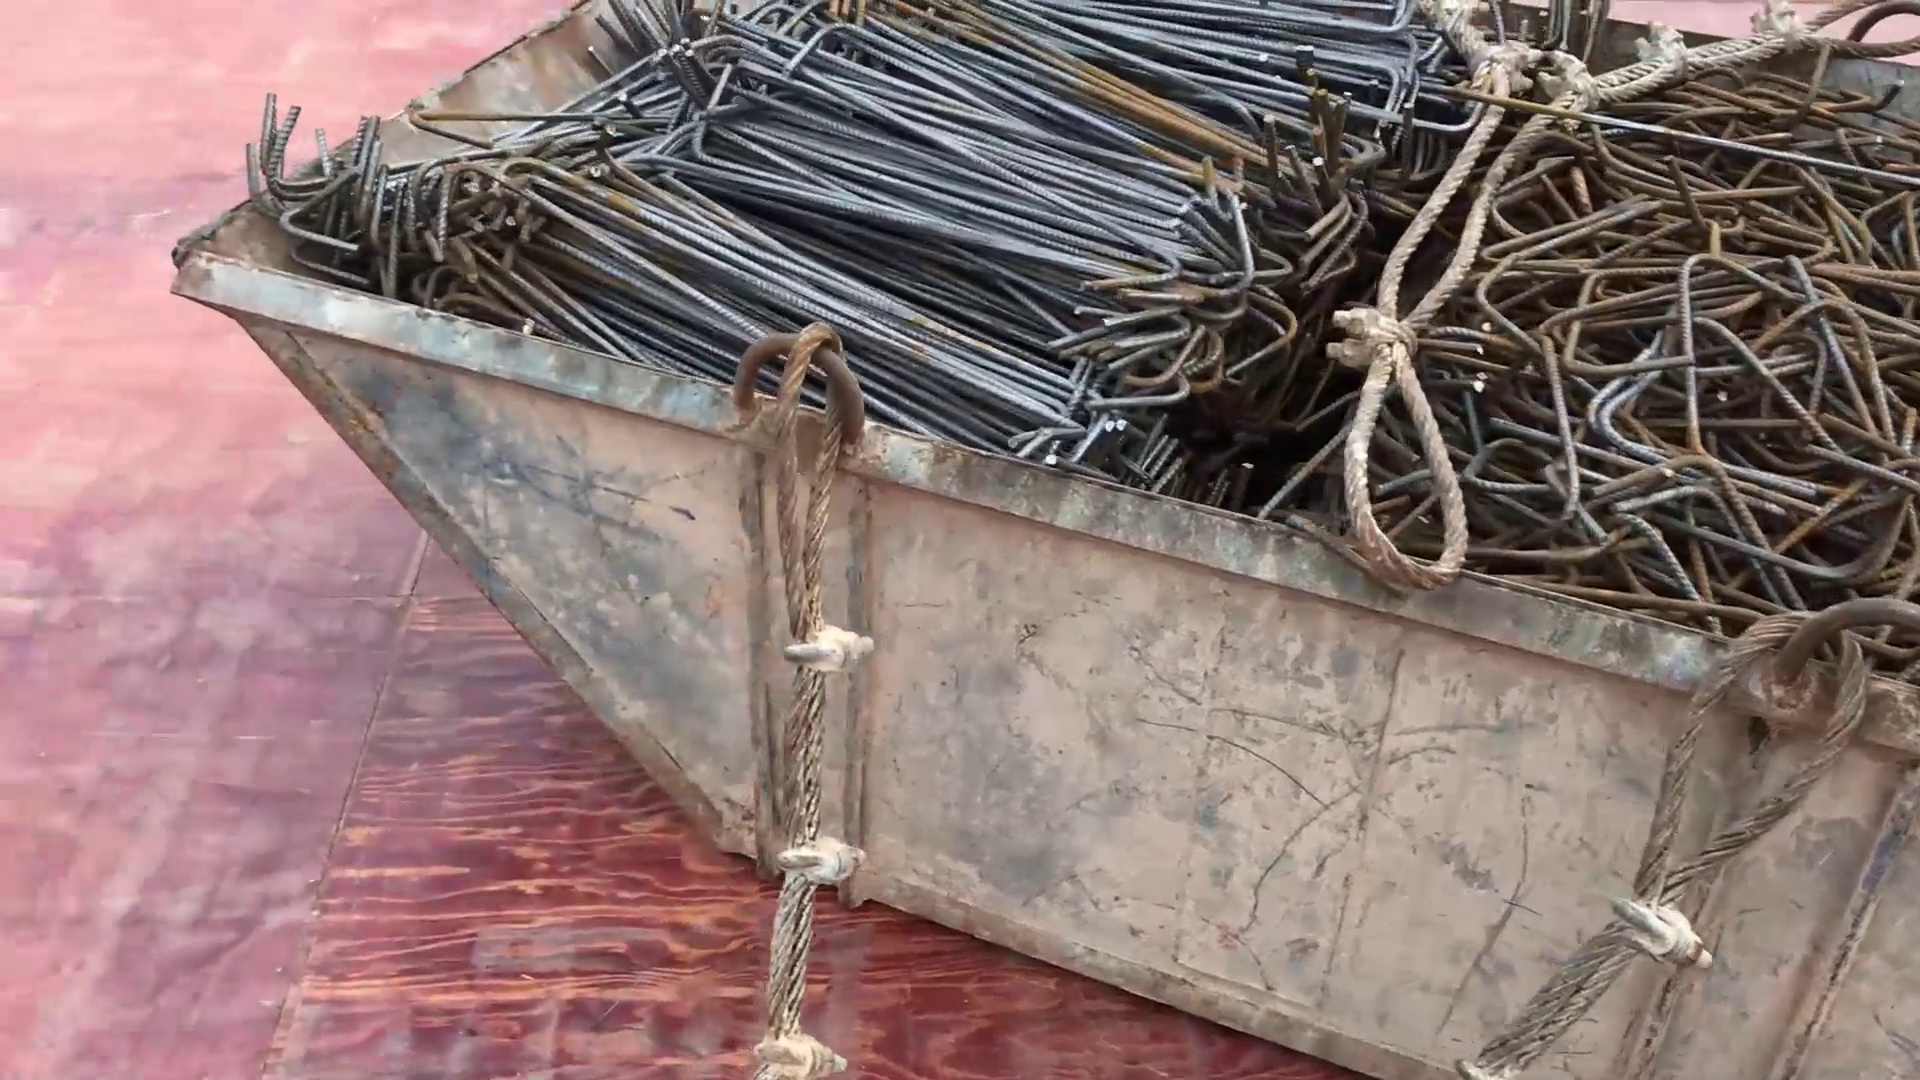hopper: (127, 9, 1920, 1079)
